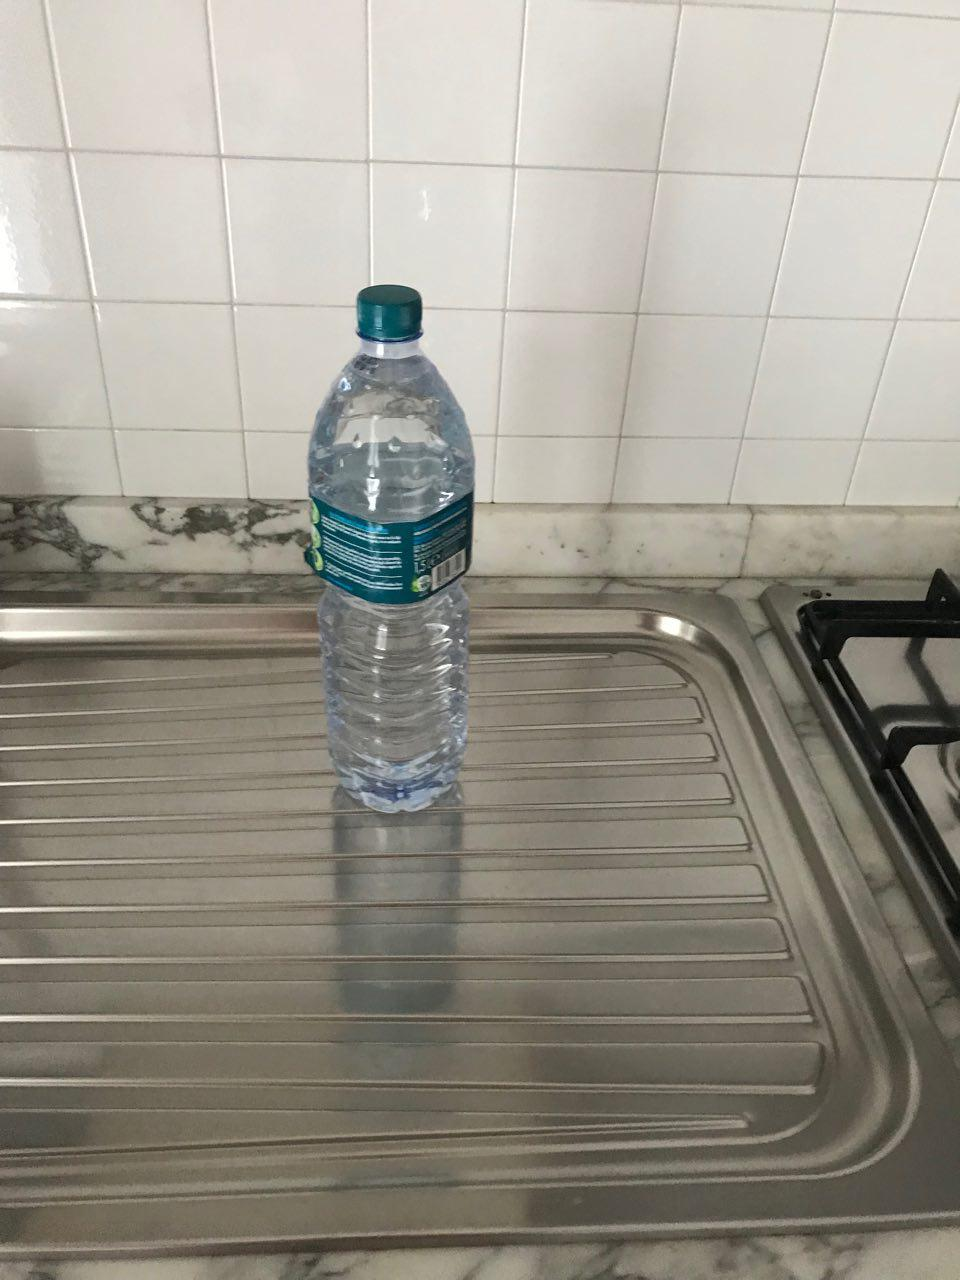san_bernardo: (305, 284, 476, 816)
